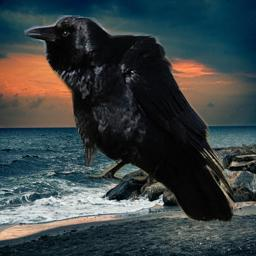Crow: (24, 15, 239, 226)
